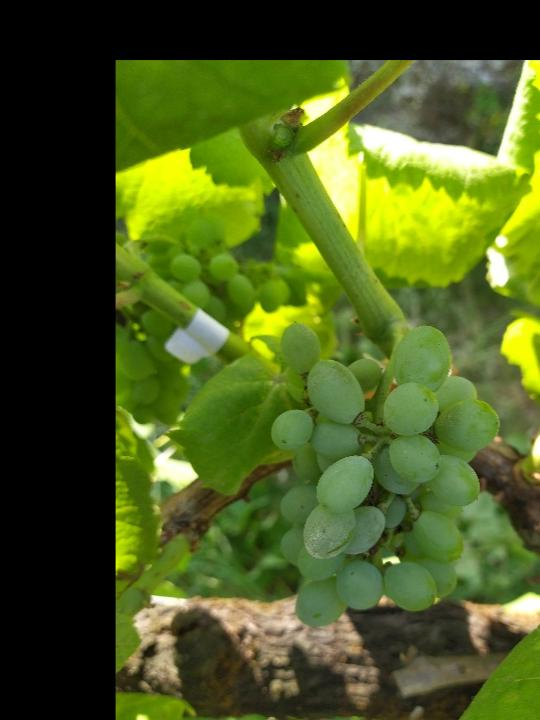grape: (270, 315, 504, 632)
